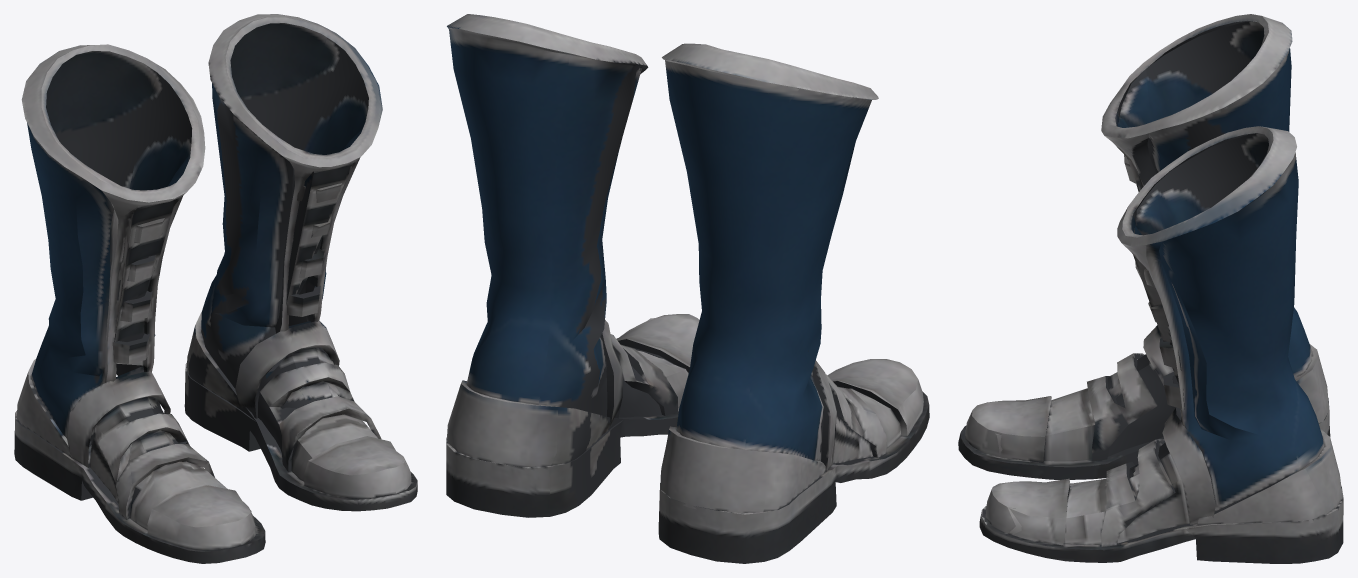
Rendered from item_mm9_10233.glb.
3 views of the same model, side by side, from view 1: azimuth 30°, elevation 25°; view 2: azimuth 150°, elevation 25°; view 3: azimuth 270°, elevation 25° (orthographic). The views are drawn at different scales.
Visible parts, largest first — view 1: d10233; view 2: d10233; view 3: d10233.
Part boxes in pixels (box(x1,y1,x2,y2)): d10233: box(14, 14, 417, 563); d10233: box(446, 14, 929, 563); d10233: box(958, 14, 1343, 563).
Size of the model in its own units: 0.8717 by 1 by 0.8267.
Materials: 1 (1 with a texture image).
